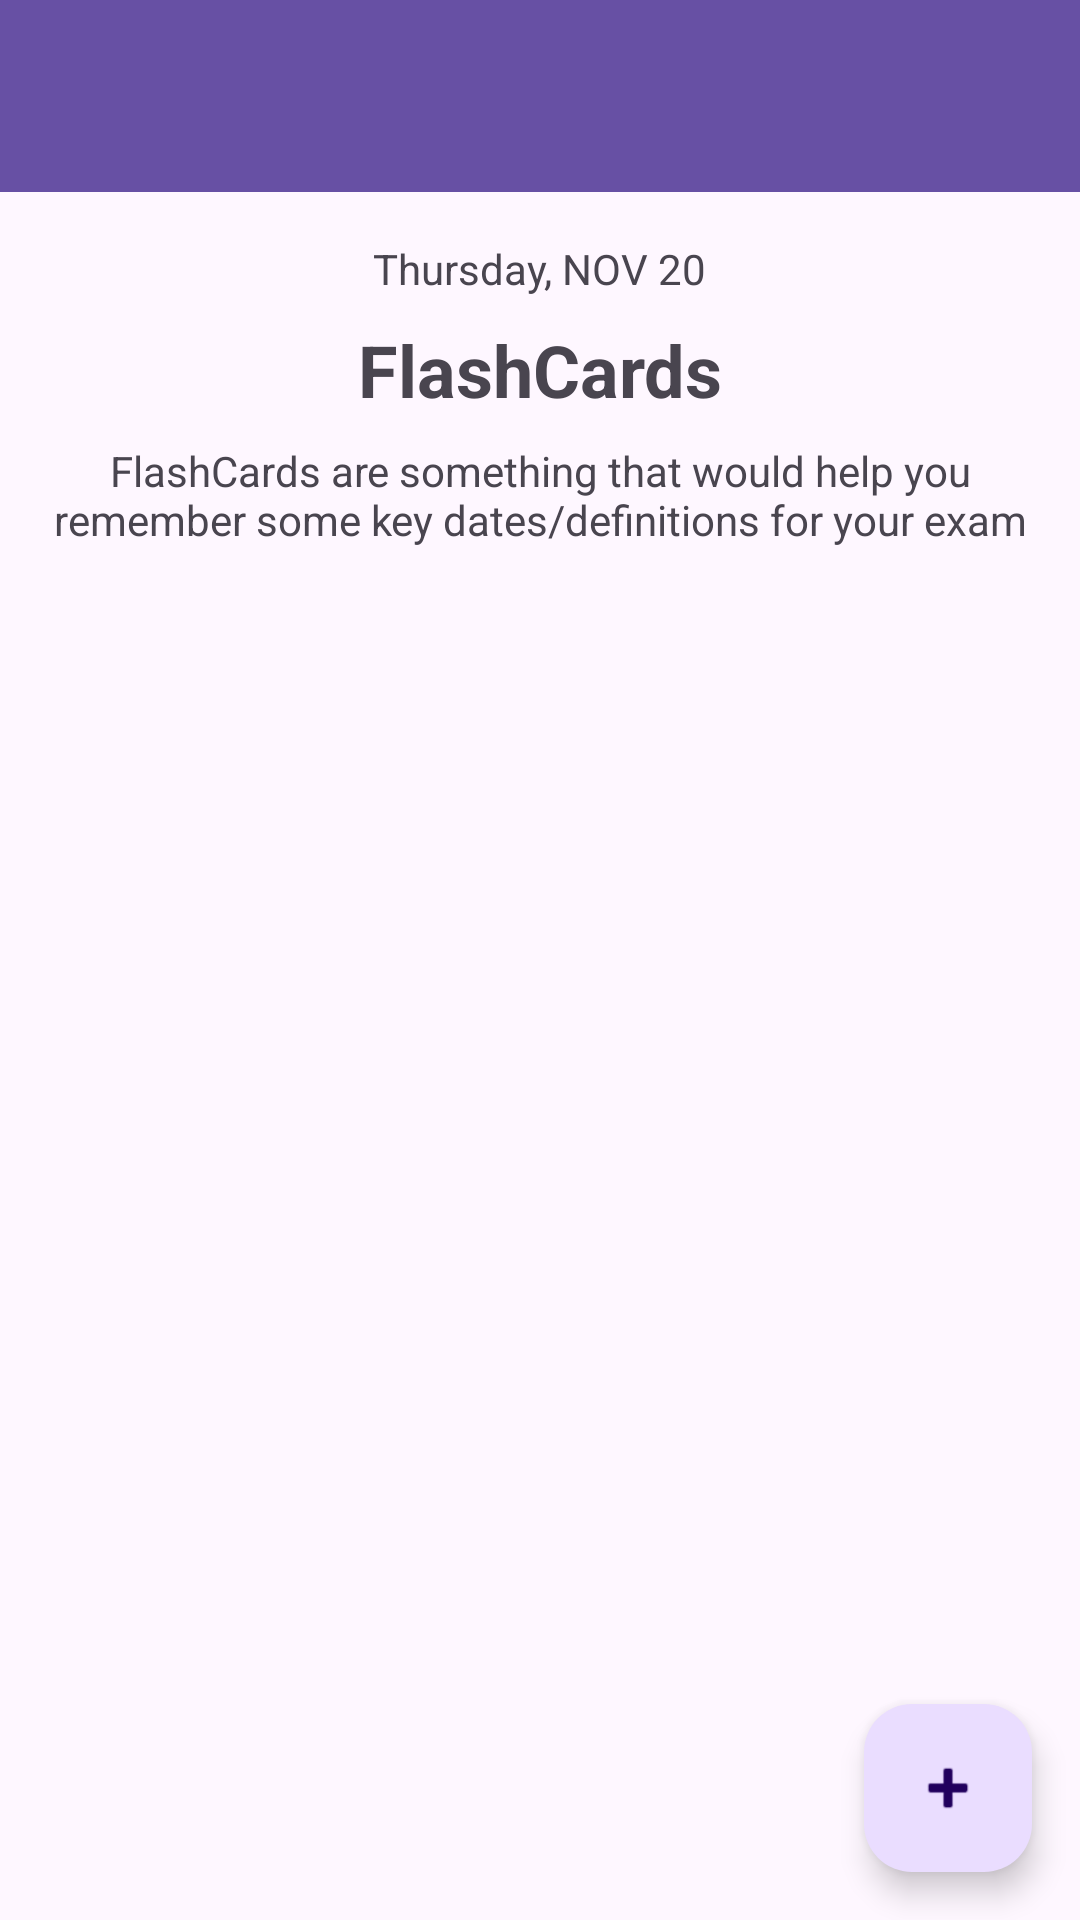

Icons on this 1080*1920 Android screen, each with the point to tap as (x,y):
Add Flashcard: (948,1788)
